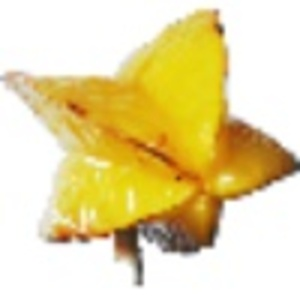carambola: (4, 5, 300, 286)
